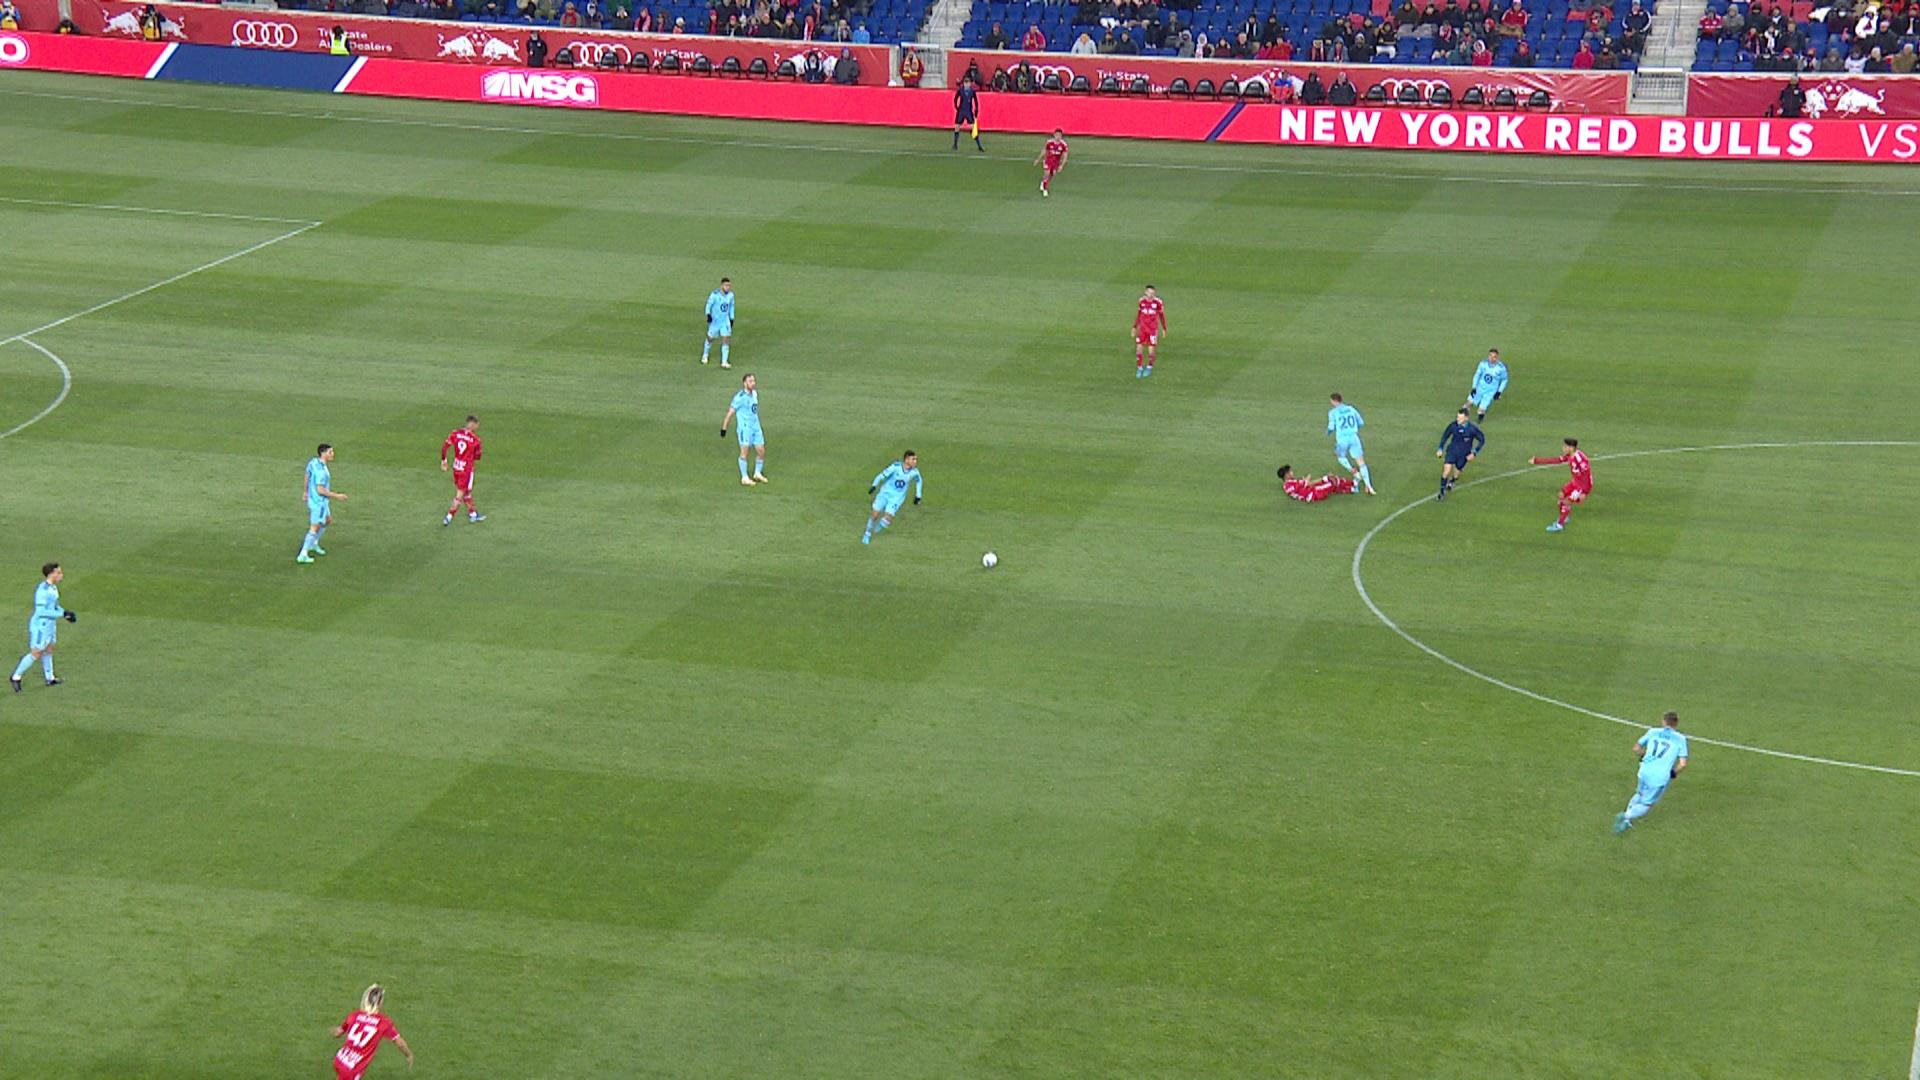football: (982, 552, 998, 568)
